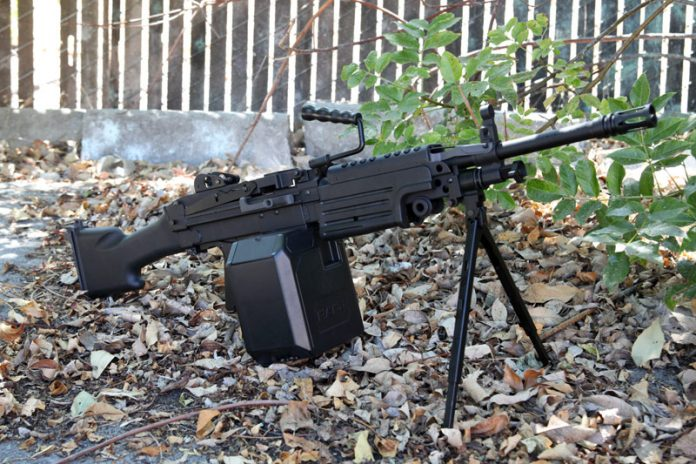Rifle: (65, 93, 661, 429)
